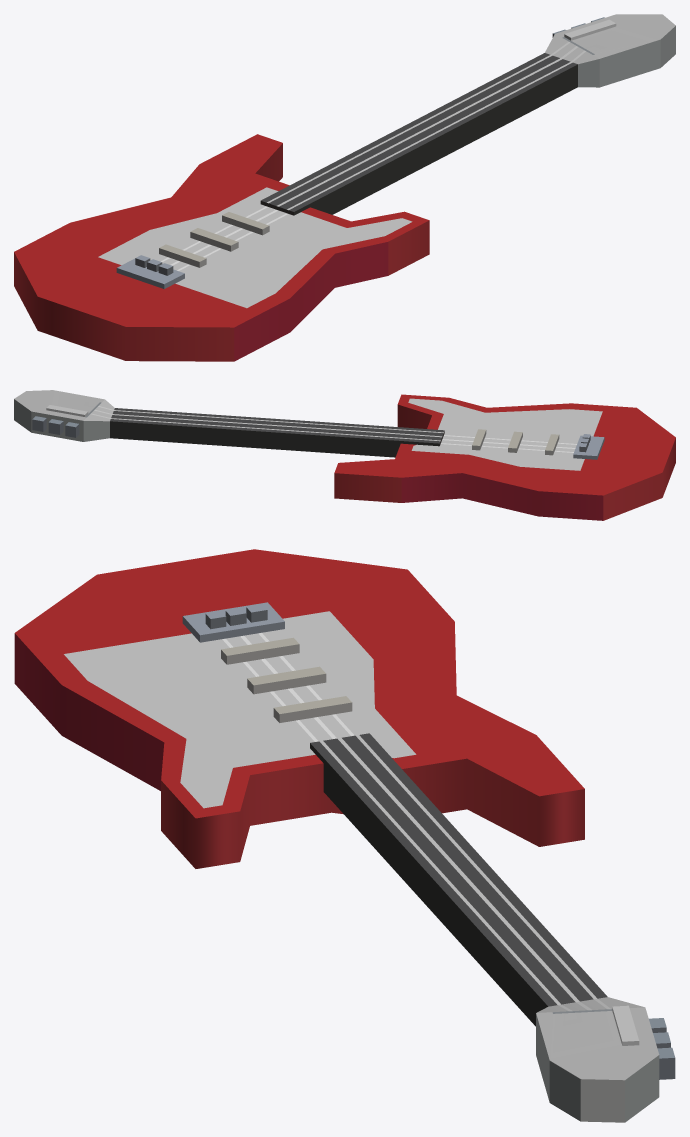
3 views of the same model, one above another, from view 1: azimuth 30°, elevation 25°; view 2: azimuth 150°, elevation 25°; view 3: azimuth 270°, elevation 25° (orthographic). The views are drawn at different scales.
Parts seen in each view (by area): view 1: Mesh_0.001; view 2: Mesh_0.001; view 3: Mesh_0.001.
Boxes of the visible parts, bbox=[...] form: Mesh_0.001: bbox=[14, 14, 675, 361]; Mesh_0.001: bbox=[14, 390, 675, 520]; Mesh_0.001: bbox=[14, 549, 675, 1122].
Size of the model in its own units: 4.8 by 0.2818 by 2.47.
1 material, 1 textured.
